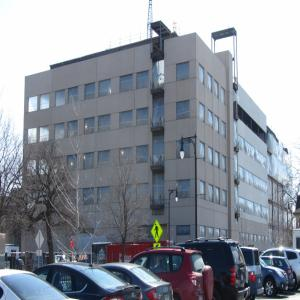Vehicle-registration-plate: (200, 294, 204, 300), (242, 274, 245, 282), (166, 296, 171, 300), (260, 279, 262, 284)
